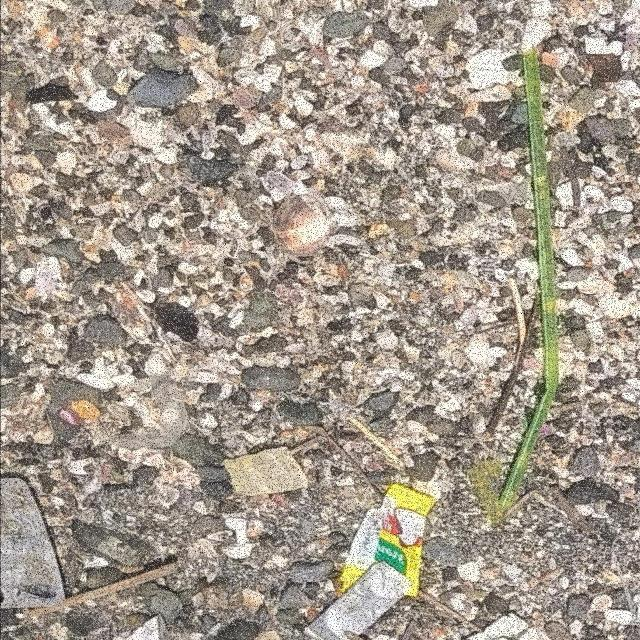plastic_waste: (496, 47, 561, 513), (306, 484, 436, 640)
